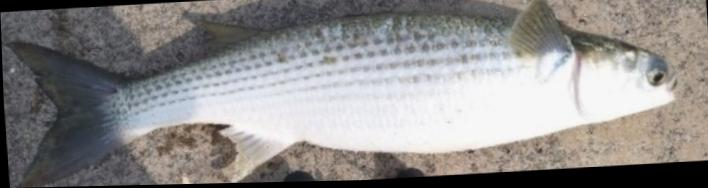fish: (8, 0, 679, 188)
